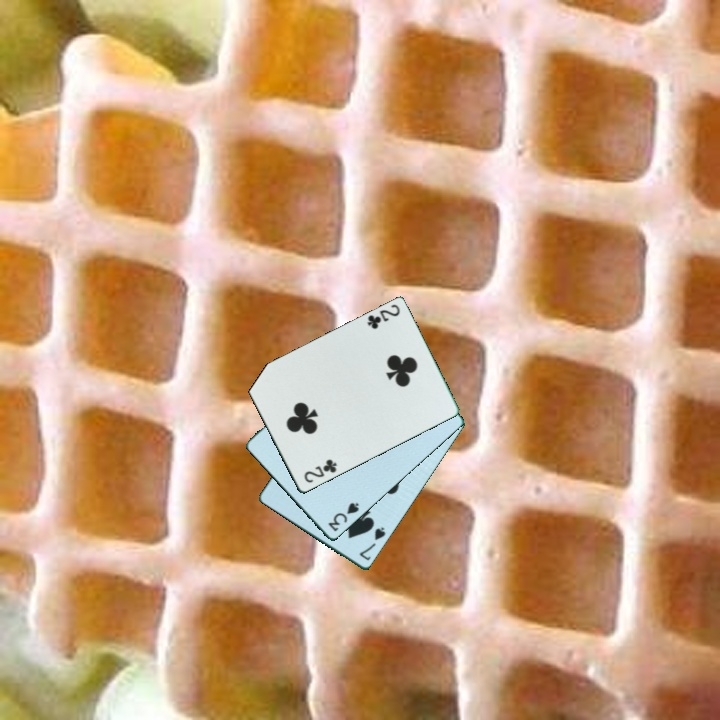2c: (363, 301, 403, 332), (300, 456, 340, 486)
3s: (324, 499, 362, 535)
7s: (356, 523, 388, 564)
